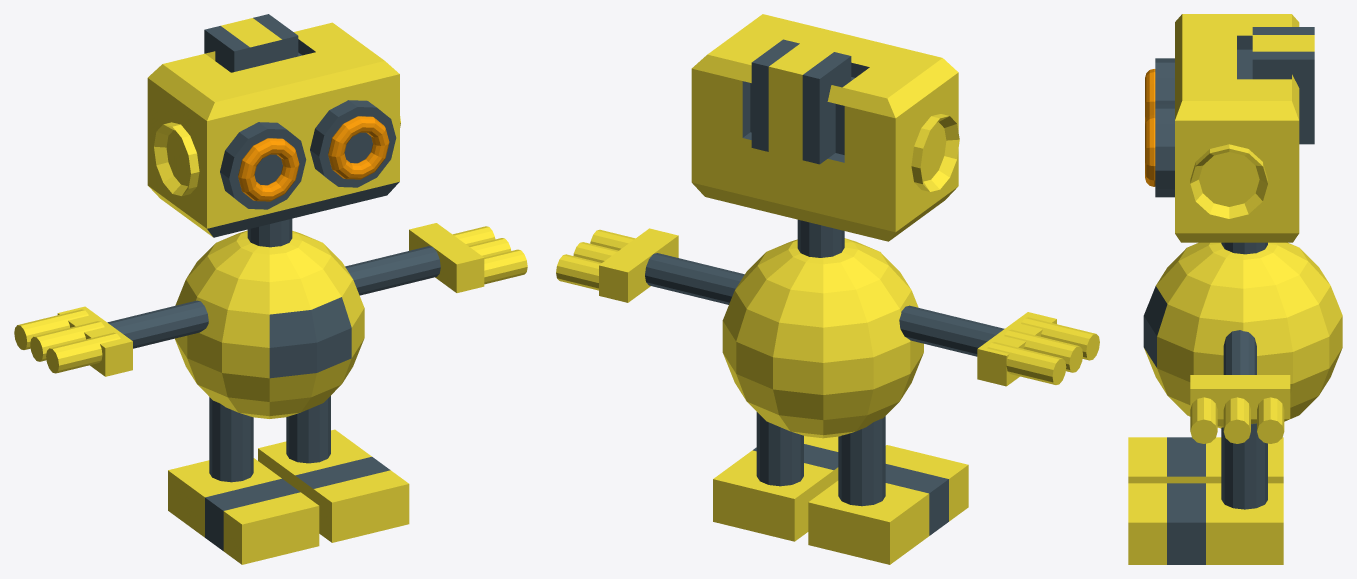
Rendered from Robot.glb.
The picture shows the model from 3 angles, left to right: view 1: azimuth 30°, elevation 25°; view 2: azimuth 150°, elevation 25°; view 3: azimuth 270°, elevation 25°; orthographic projection. The views are drawn at different scales.
Parts seen in each view (by area): view 1: group1364293401, group377741613, group1493342173, group1755557581, group1230729973, group1841987130, group514994319, group1323830948, group1205235175, group2142266668, group2056552703; view 2: group1364293401, group377741613, group1493342173, group1755557581, group1205235175, group1230729973, group1841987130, group2142266668, group2056552703; view 3: group1364293401, group377741613, group1755557581, group1841987130, group1493342173, group1205235175, group1323830948, group1744166478, group514994319, group2056552703.
Boxes of the visible parts, x1,y1,x2,y2 form: group1364293401: (147, 22, 399, 237); group377741613: (175, 230, 364, 418); group1493342173: (168, 397, 319, 564); group1755557581: (258, 396, 409, 542); group1230729973: (14, 300, 208, 376); group1841987130: (345, 223, 527, 295); group514994319: (220, 122, 306, 209); group1323830948: (310, 100, 396, 187); group1205235175: (204, 14, 298, 72); group2142266668: (154, 122, 199, 196); group2056552703: (247, 218, 292, 247); group1364293401: (691, 14, 958, 241); group377741613: (722, 238, 923, 438); group1493342173: (808, 416, 968, 564); group1755557581: (713, 412, 838, 541); group1205235175: (751, 39, 851, 164); group1230729973: (899, 305, 1099, 386); group1841987130: (556, 228, 744, 304); group2142266668: (911, 114, 959, 191); group2056552703: (797, 219, 844, 257); group1364293401: (1175, 14, 1299, 242); group377741613: (1143, 242, 1342, 428); group1755557581: (1128, 423, 1283, 564); group1841987130: (1190, 330, 1290, 443); group1493342173: (1128, 437, 1283, 483); group1205235175: (1252, 27, 1314, 144); group1323830948: (1145, 104, 1174, 197); group1744166478: (1190, 144, 1267, 218); group514994319: (1145, 58, 1174, 122); group2056552703: (1221, 242, 1267, 254).
Size of the model in its own units: 0.3647 by 0.34 by 0.138.
